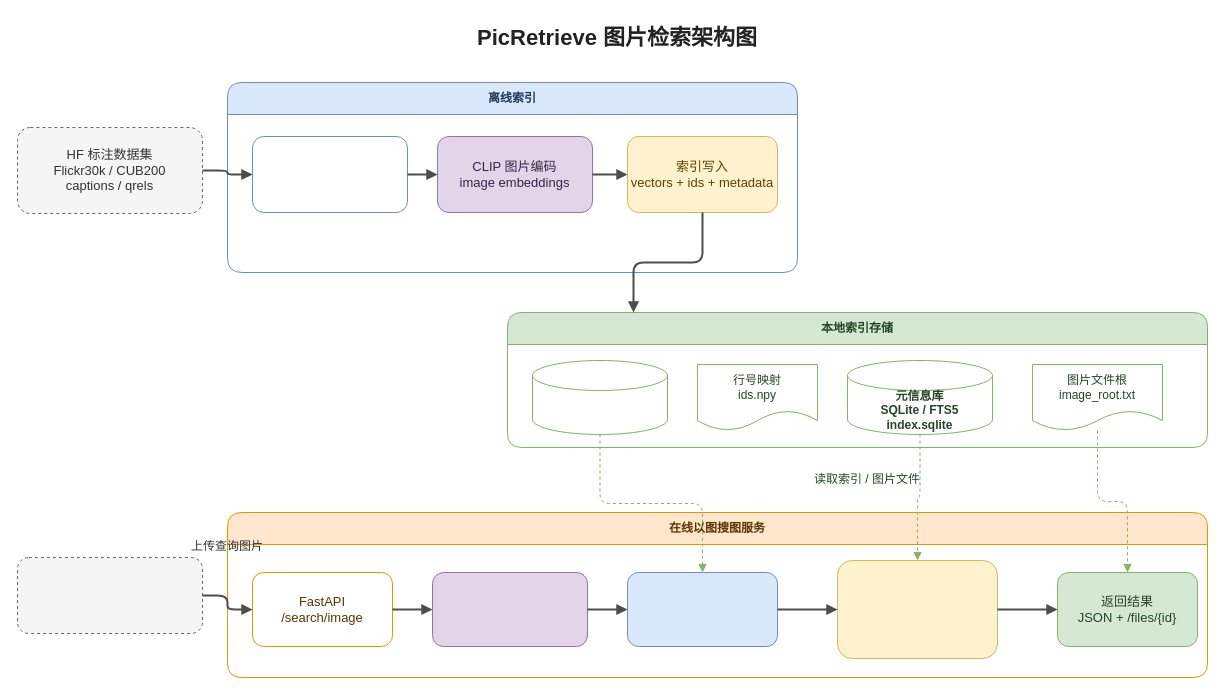
Some shapes in this 1225 by 695 pixel diagram are drawn without their labels. Each missing label, with the centre of its shape:
CLIP 查询图编码 query vector: (510,609)
可选分数融合 metadata_query pHash 近重复: (917,609)
向量库 NumPy embeddings.npy: (600,397)
向量相似度检索 cosine top-k: (702,609)
图片与标注读取 captions / qrels / metadata: (330,174)
调用方 Dify / FastGPT / Web: (109,595)
